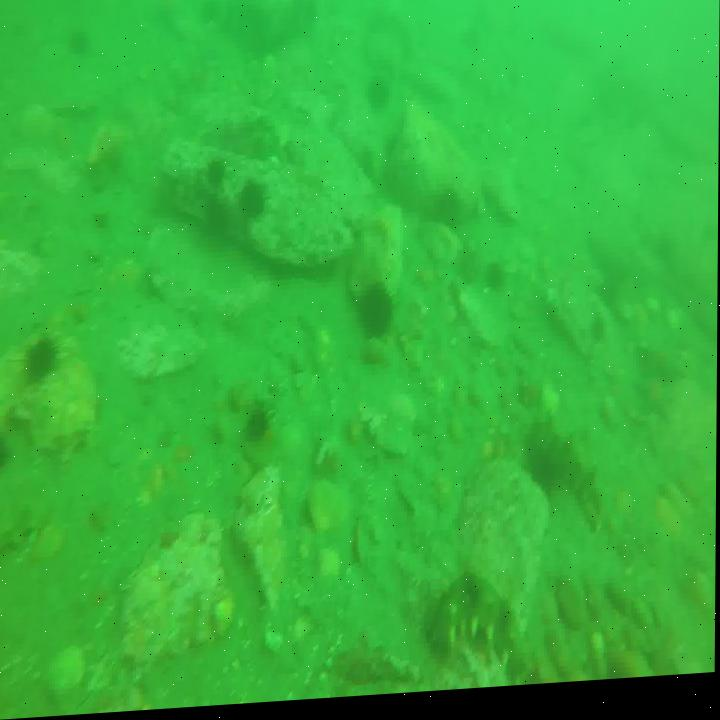echinus: (365, 287, 395, 347), (242, 173, 273, 230), (436, 186, 466, 243), (26, 337, 57, 379), (246, 410, 274, 445), (203, 155, 224, 188), (485, 268, 505, 300)
holothurian: (530, 424, 606, 536), (428, 581, 516, 667)
